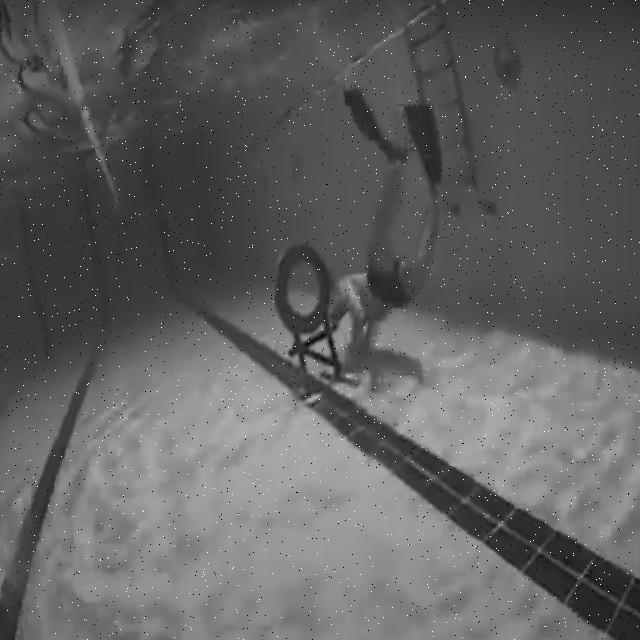Circle: (274, 242, 334, 335)
